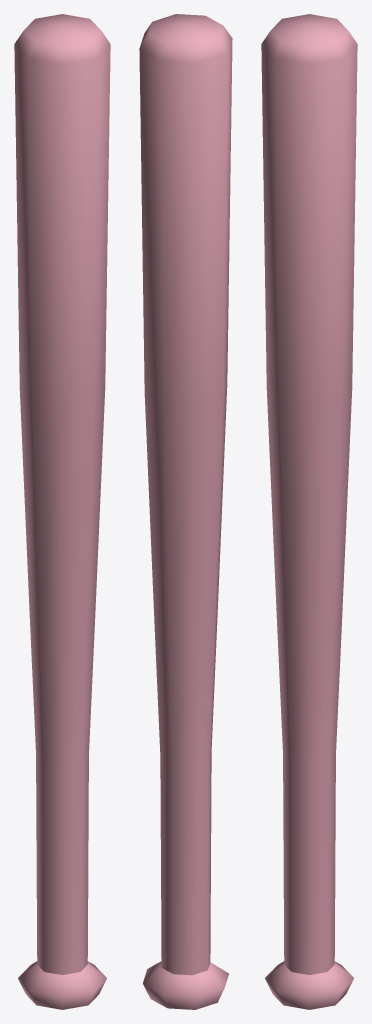
File: Bat.fbx
3 views of the same model, side by side, from view 1: azimuth 90°, elevation 25°; view 2: azimuth 150°, elevation 25°; view 3: azimuth 270°, elevation 25° (orthographic).
Parts seen in each view (by area): view 1: Bat; view 2: Bat; view 3: Bat.
Boxes of the visible parts, x1=… form: Bat: x1=14, y1=14, x2=110, y2=1009; Bat: x1=139, y1=14, x2=232, y2=1009; Bat: x1=261, y1=14, x2=357, y2=1009.
Bounding box in the file's own units: 12.02 × 133 × 12.02.
